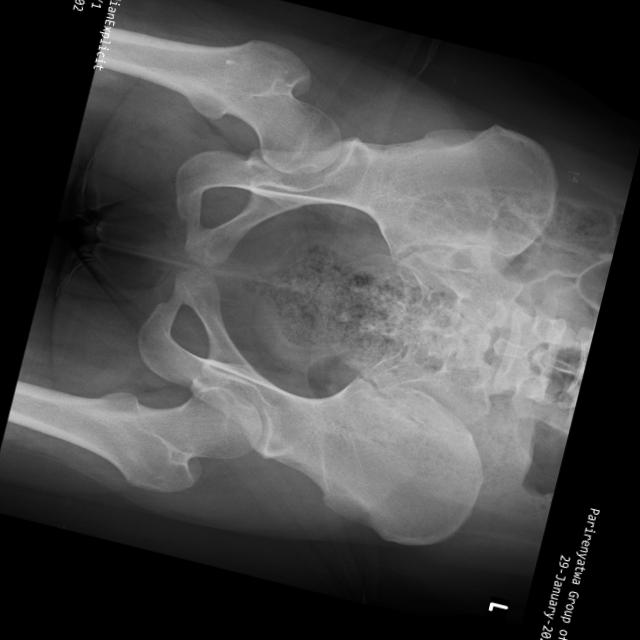normal-left: (10, 383, 261, 492)
normal-right: (103, 27, 340, 175)
